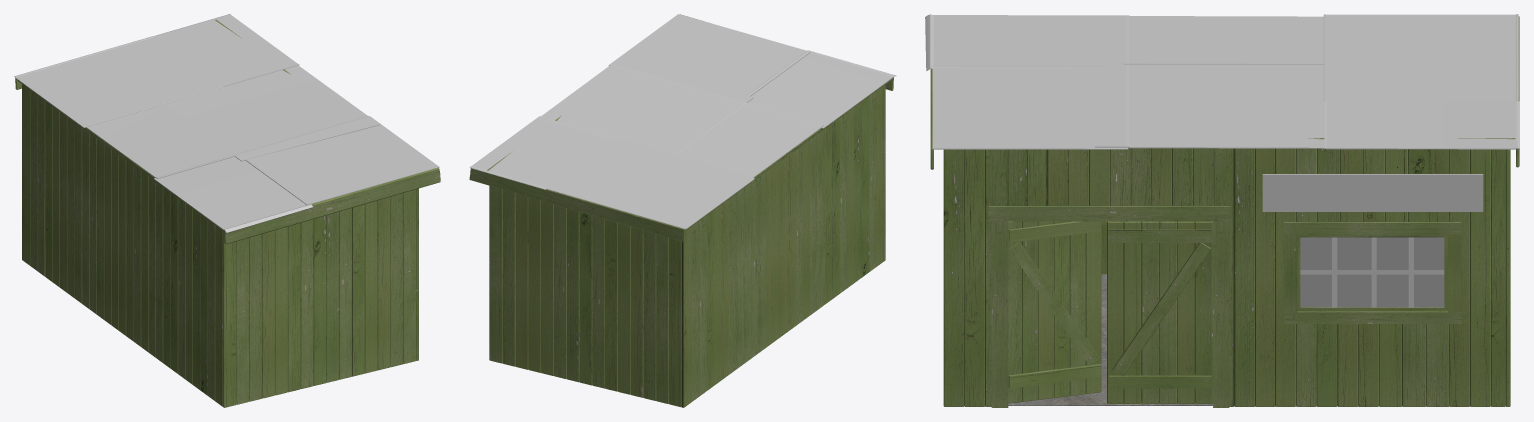
Rendered from NewGarage.fbx.
The picture shows the model from 3 angles, left to right: view 1: azimuth 30°, elevation 25°; view 2: azimuth 150°, elevation 25°; view 3: azimuth 270°, elevation 25°; orthographic projection. The views are drawn at different scales.
Visible parts, largest first — view 1: Rouf, Wall4, Wall2, Roof_wood, Wall; view 2: Rouf, Wall4, Wall3, Roof_wood; view 3: Rouf, Wall, DoorRigh, DoorLeft, Door_Frame, Glass, Sing, Window, Window2, Floor, Wall3, Roof_wood.
Part boxes in pixels (<box>): Rouf: <box>14,14,439,233</box>; Wall4: <box>22,84,222,406</box>; Wall2: <box>222,189,415,407</box>; Roof_wood: <box>15,19,440,244</box>; Wall: <box>416,188,418,360</box>; Rouf: <box>469,14,896,229</box>; Wall4: <box>681,86,883,407</box>; Wall3: <box>489,185,681,407</box>; Roof_wood: <box>469,14,893,241</box>; Rouf: <box>925,14,1519,149</box>; Wall: <box>943,148,1505,406</box>; DoorRigh: <box>1107,221,1212,403</box>; DoorLeft: <box>1008,221,1101,403</box>; Door_Frame: <box>988,205,1230,407</box>; Glass: <box>1300,237,1444,307</box>; Sing: <box>1262,174,1483,211</box>; Window: <box>1284,222,1461,323</box>; Window2: <box>1300,237,1444,307</box>; Floor: <box>1008,274,1212,405</box>; Wall3: <box>1505,149,1510,406</box>; Roof_wood: <box>930,16,1519,169</box>.
Size of the model in its own units: 340 by 290 by 577.
